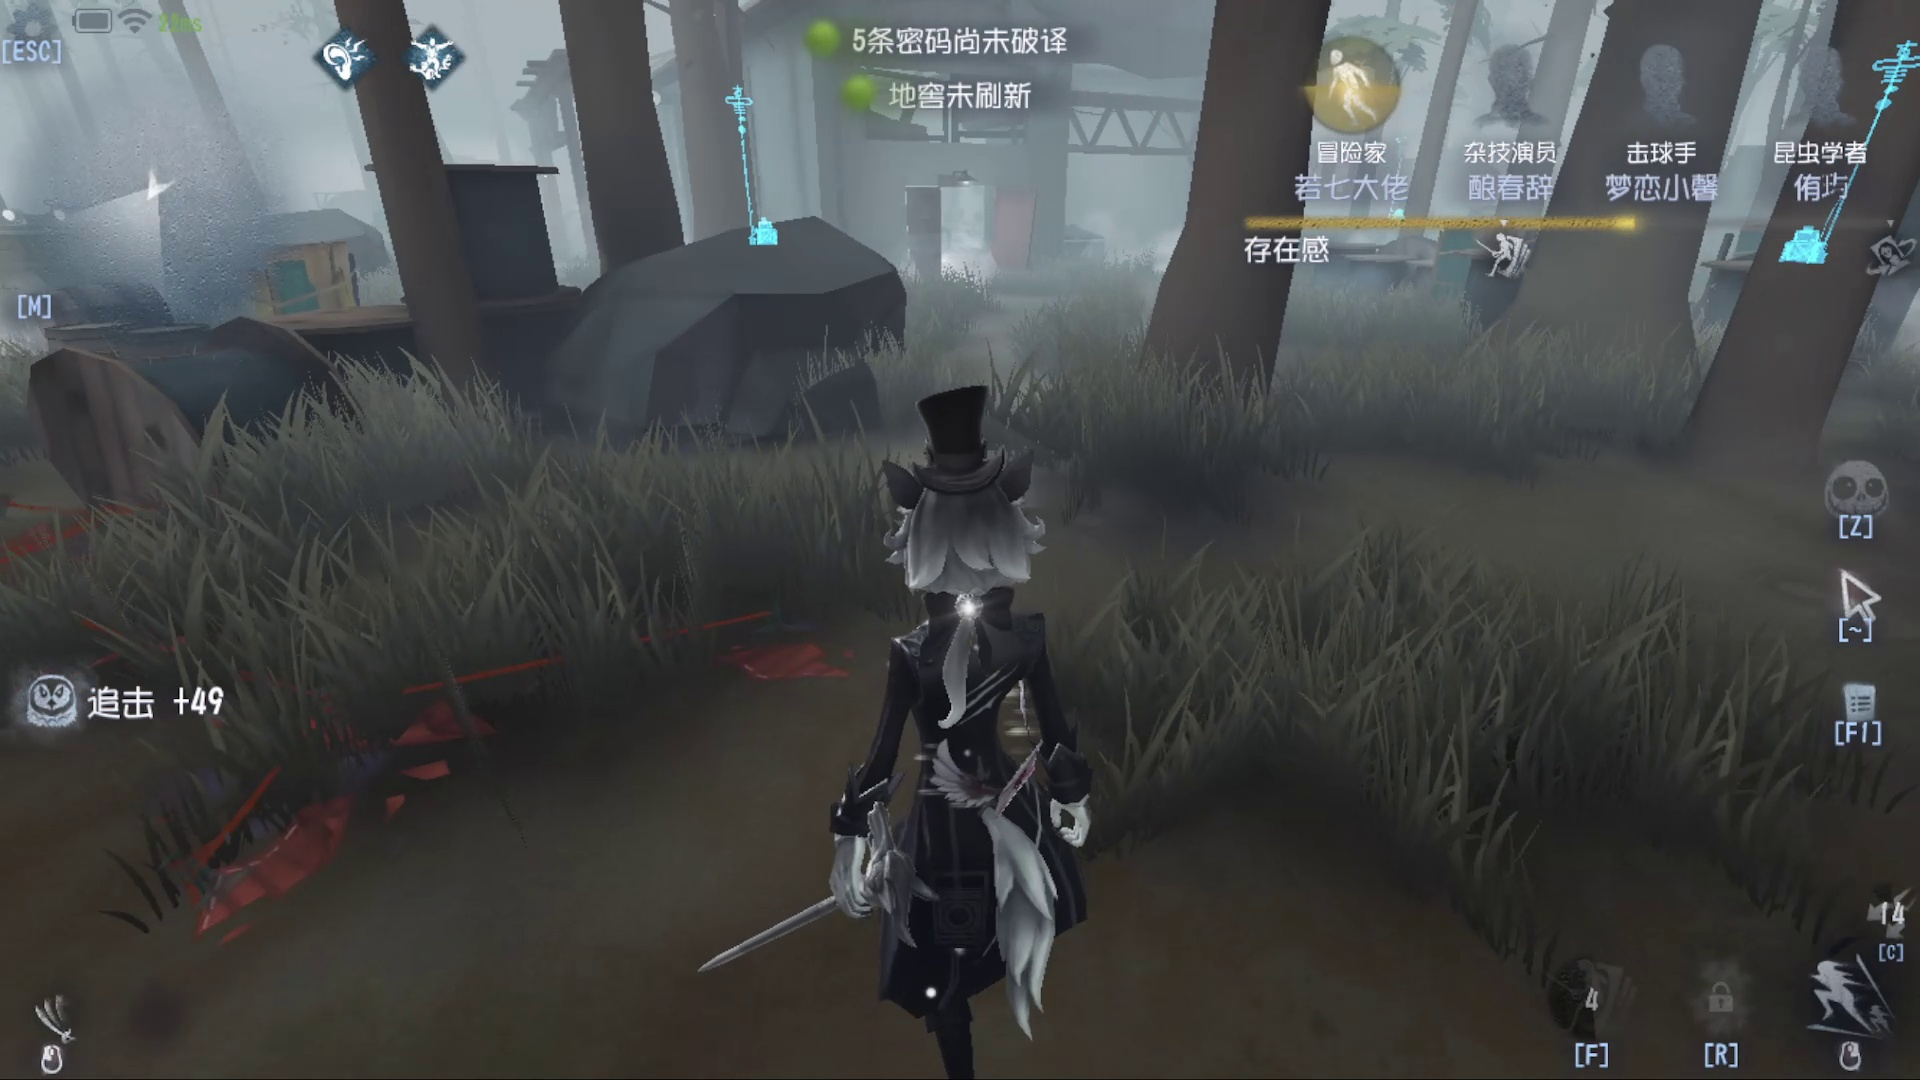密码机: (709, 71, 799, 281)
脚印: (280, 661, 637, 836)
